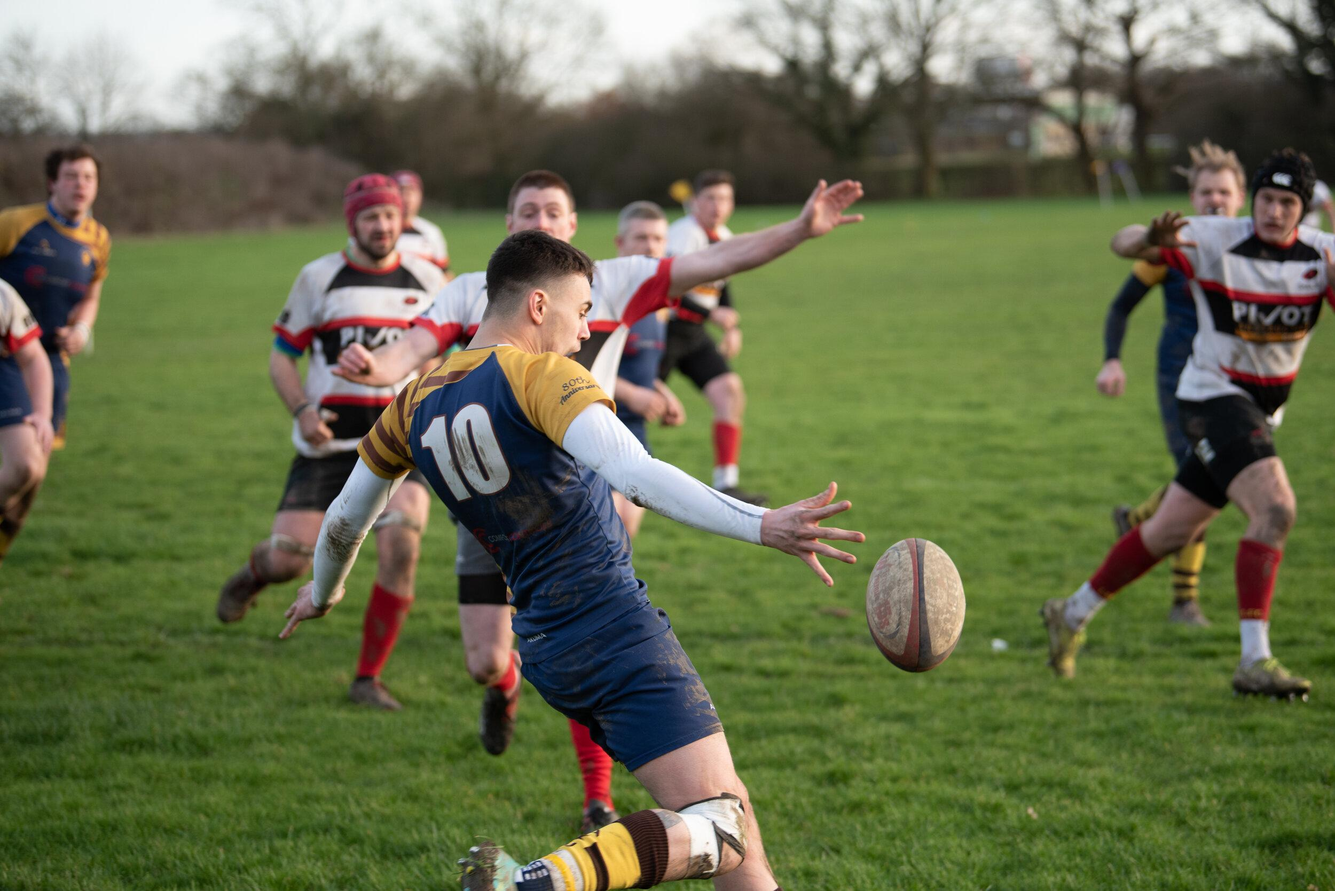ballon_rugby: (858, 530, 969, 681)
